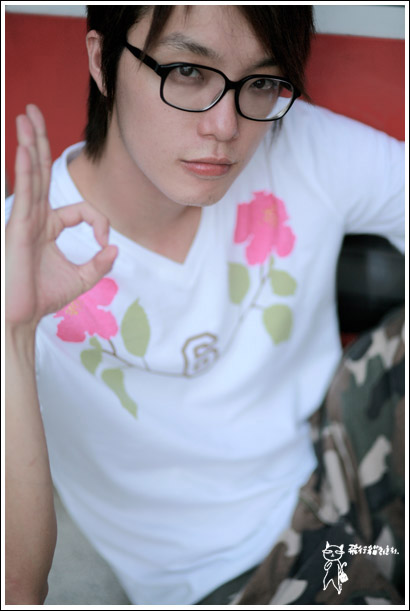people: (13, 3, 382, 611)
